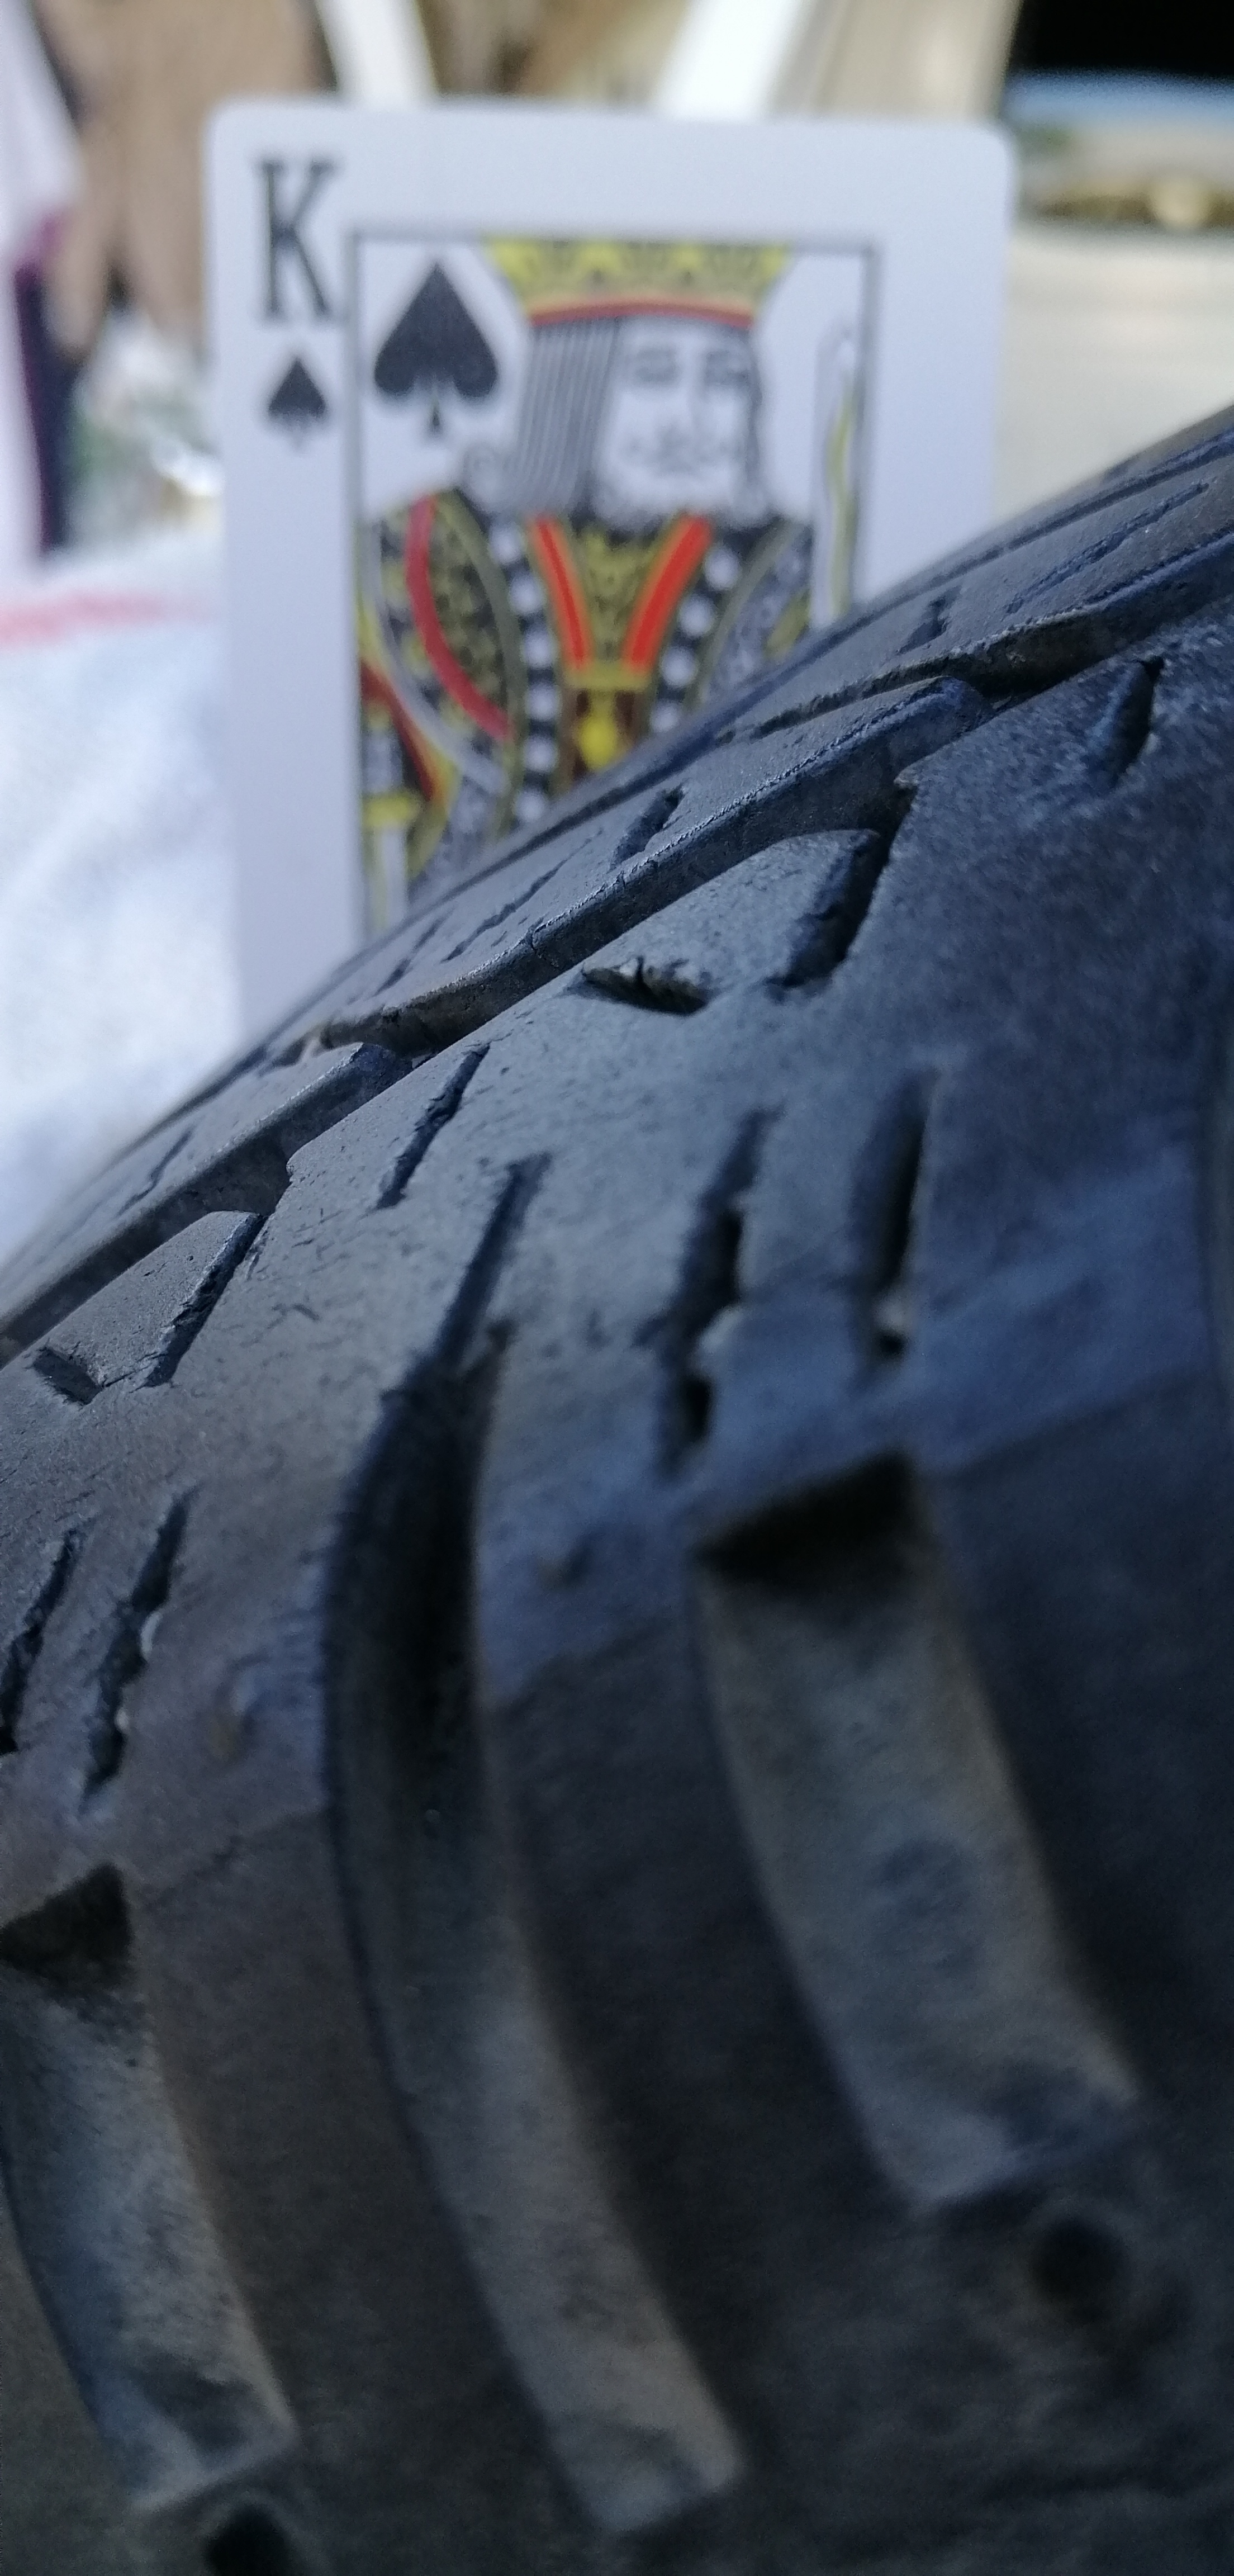king: (159, 56, 1014, 882)
